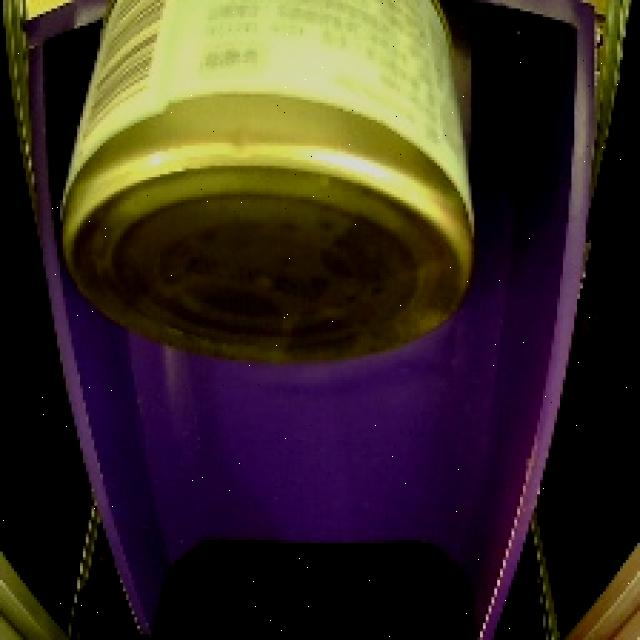metal: (44, 0, 486, 383)
